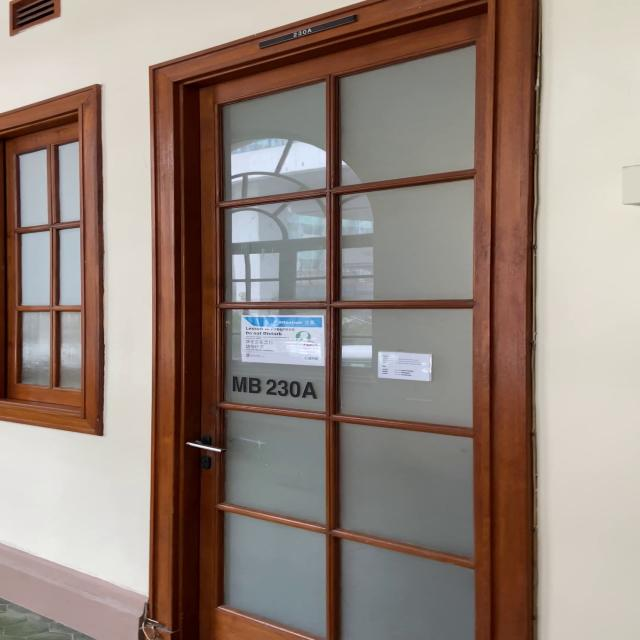room230A: (257, 14, 357, 49)
room230AWindow: (228, 374, 322, 402)
